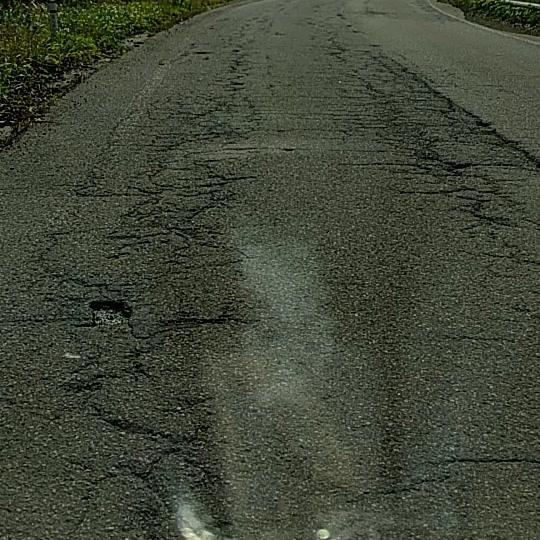pothole: (82, 293, 134, 322)
